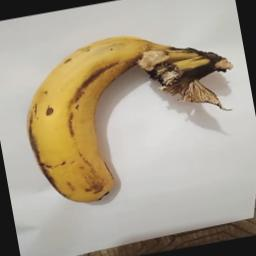Banana Unripe: (10, 8, 253, 213)
